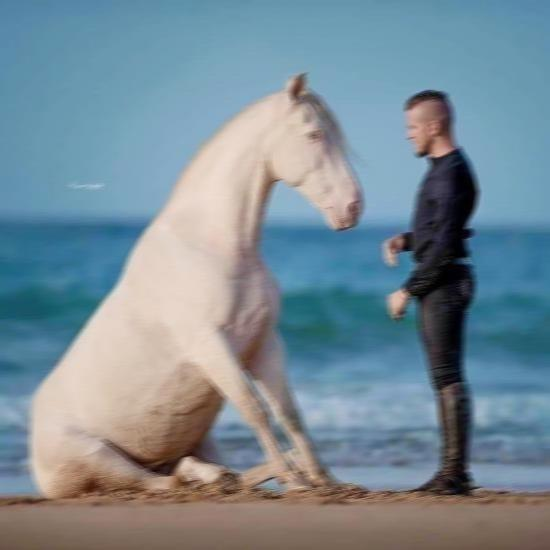horse: (27, 70, 365, 499)
